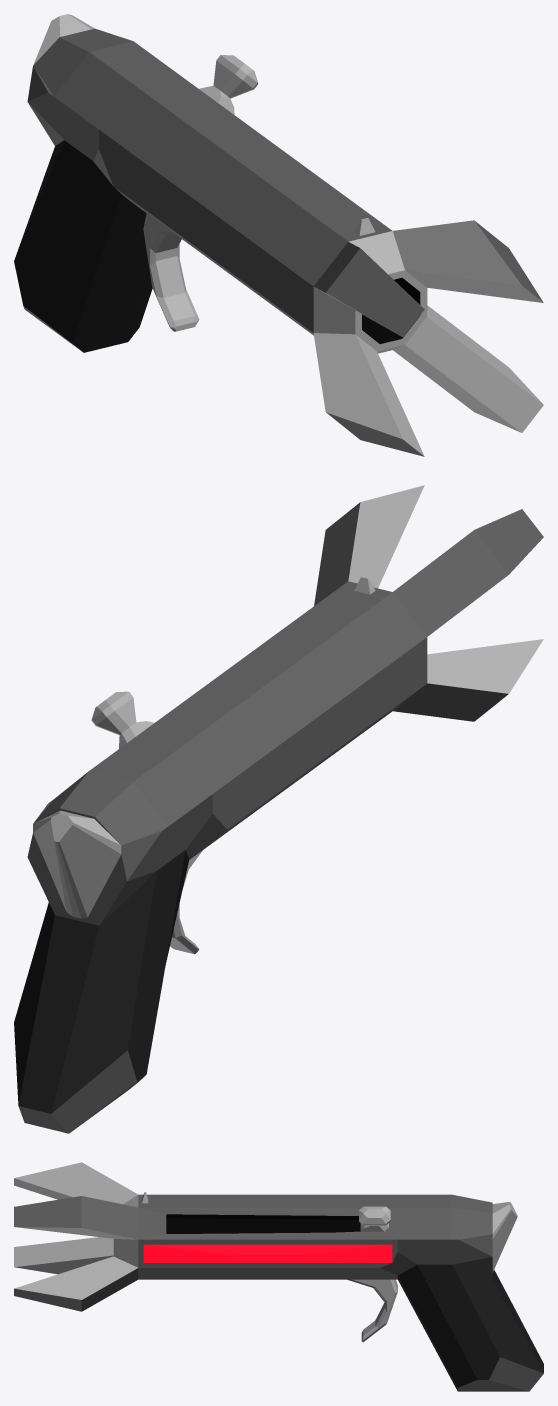
Rendered from grapple_gun.fbx.
3 renders of one model, top to bottom at view 1: azimuth 30°, elevation 25°; view 2: azimuth 150°, elevation 25°; view 3: azimuth 270°, elevation 25°, orthographic. The views are drawn at different scales.
Parts seen in each view (by area): view 1: Cube; view 2: Cube; view 3: Cube.
Part boxes in pixels (box(x1,y1,x2,y2)): Cube: box(14, 14, 543, 456); Cube: box(14, 485, 543, 1133); Cube: box(14, 1162, 543, 1391).
Size of the model in its own units: 82.4 by 146 by 341.
